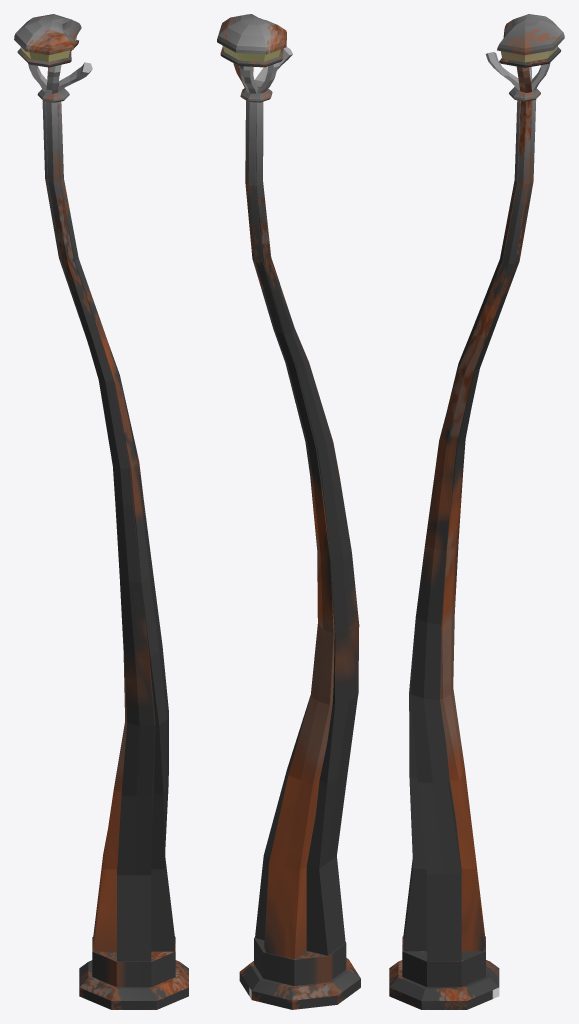
File: lamp_Post-Past.fbx
The picture shows the model from 3 angles, left to right: view 1: azimuth 90°, elevation 25°; view 2: azimuth 150°, elevation 25°; view 3: azimuth 270°, elevation 25°; orthographic projection. The views are drawn at different scales.
Visible parts, largest first — view 1: Pole.002, Pole.003, Base.001, Lamp.001; view 2: Pole.002, Pole.003, Base.001, Lamp.001; view 3: Pole.002, Pole.003, Base.001, Lamp.001.
Part boxes in pixels (x1,y1,x2,y2): Pole.002: [46, 64, 155, 961]; Pole.003: [28, 62, 174, 951]; Base.001: [79, 937, 188, 1009]; Lamp.001: [14, 14, 81, 67]; Pole.002: [233, 62, 358, 955]; Pole.003: [240, 47, 359, 959]; Base.001: [239, 937, 360, 1009]; Lamp.001: [217, 14, 286, 67]; Pole.002: [411, 66, 532, 961]; Pole.003: [403, 52, 550, 951]; Base.001: [389, 936, 499, 1009]; Lamp.001: [497, 14, 564, 67].
Bounding box in the file's own units: 39.04 × 372 × 61.02.
